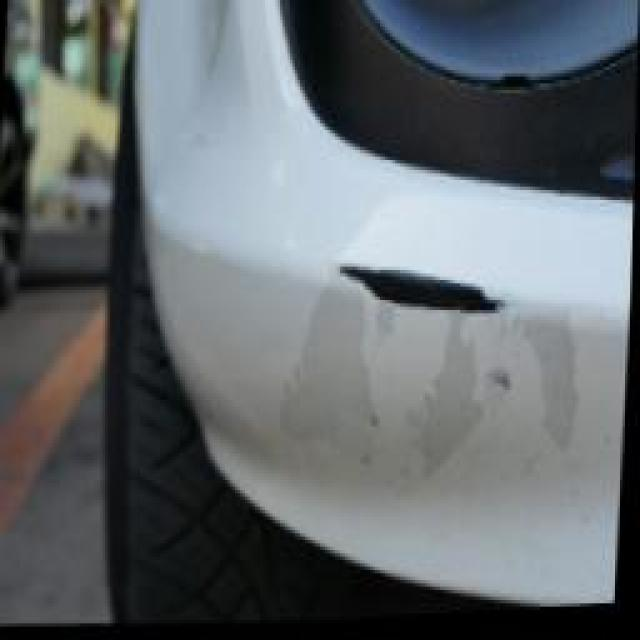Bumper: (262, 217, 582, 421)
